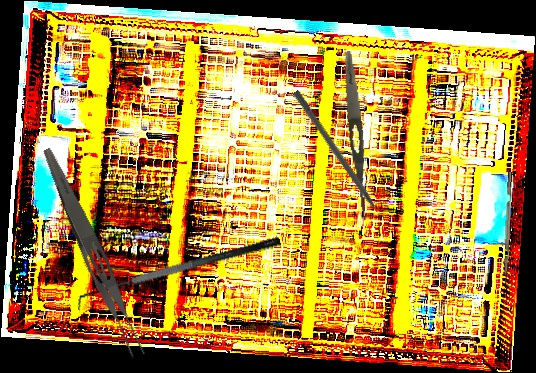Chopper: (501, 171, 519, 289)
Dressing Forceps: (32, 145, 151, 362), (340, 50, 373, 221)
Pusher: (291, 89, 390, 230)
Spatula Surgical: (72, 234, 286, 315)
